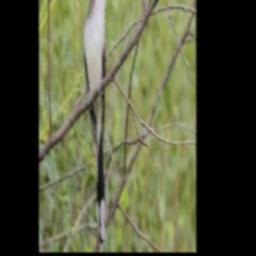Cuckoo: (83, 0, 116, 242)
